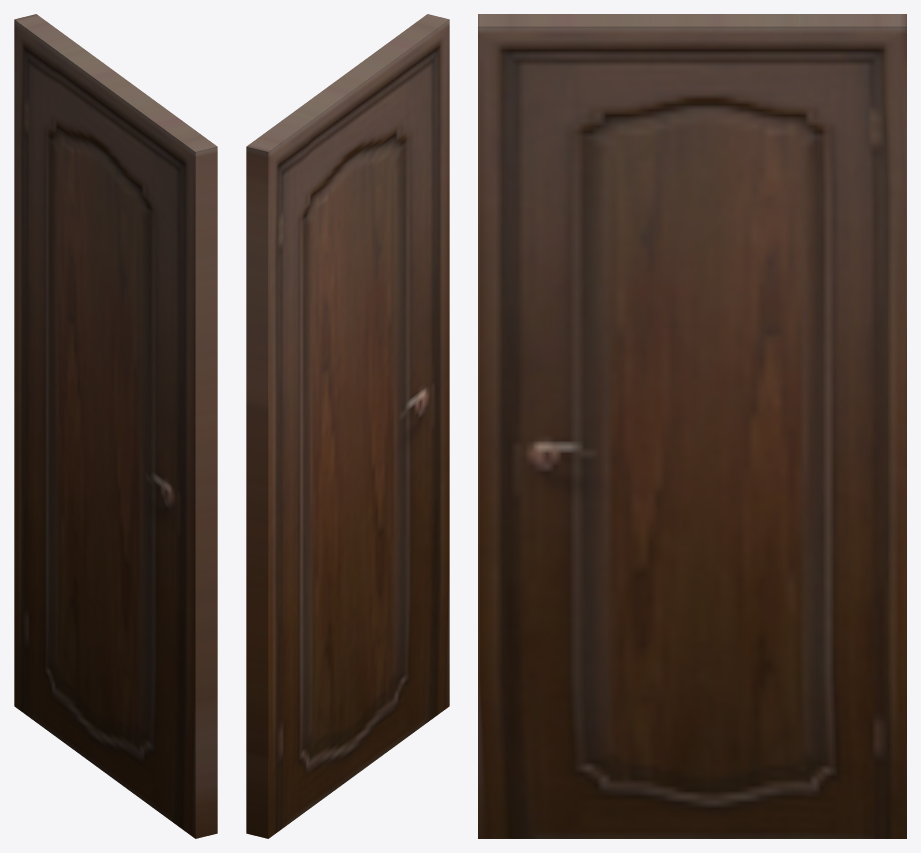
The model's file is Best_WoodenDoor2.0 (2).fbx.
The picture shows the model from 3 angles, left to right: view 1: azimuth 30°, elevation 25°; view 2: azimuth 150°, elevation 25°; view 3: azimuth 270°, elevation 25°; orthographic projection. The views are drawn at different scales.
Visible parts, largest first — view 1: Cube; view 2: Cube; view 3: Cube.
Boxes of the visible parts, <box> form: Cube: <box>14,14,217,838</box>; Cube: <box>246,14,449,838</box>; Cube: <box>478,14,906,838</box>.
Size of the model in its own units: 7.61 by 225 by 108.
1 material, 1 textured.
